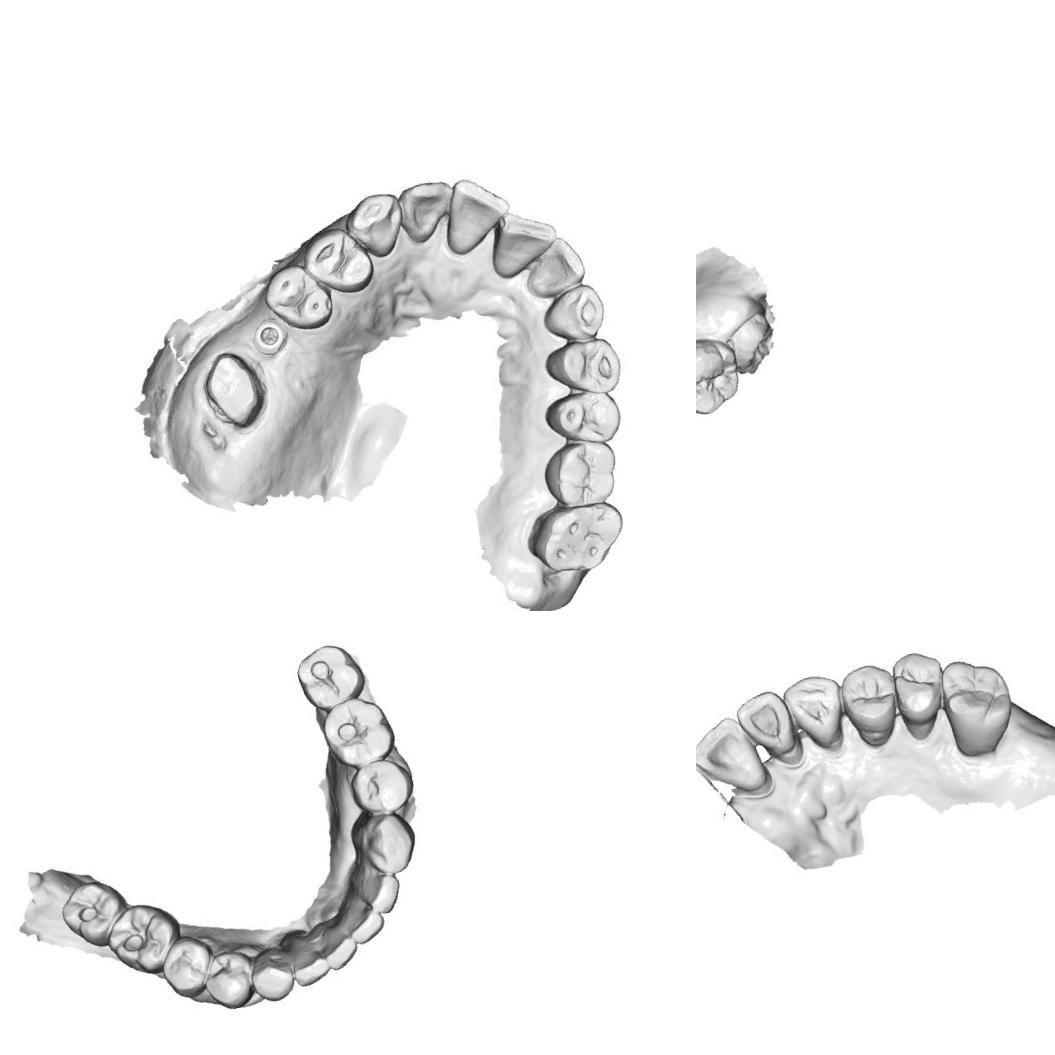canine: (780, 667, 852, 754), (346, 803, 426, 881), (537, 278, 612, 348), (341, 188, 409, 262), (248, 944, 299, 1006)
crown: (192, 344, 271, 440)
implant: (248, 314, 294, 362)
incisor: (432, 168, 516, 256), (730, 684, 804, 776), (478, 203, 565, 280), (696, 709, 767, 803), (394, 170, 462, 247), (518, 232, 590, 304), (316, 912, 363, 968), (360, 864, 410, 914), (289, 934, 334, 984), (342, 896, 387, 942)
molar: (518, 494, 633, 584), (934, 648, 1020, 752), (535, 431, 627, 516), (103, 894, 189, 982), (318, 691, 401, 773), (56, 871, 136, 952), (286, 638, 367, 715), (696, 330, 747, 419)
premolar: (258, 254, 342, 342), (296, 218, 378, 303), (538, 330, 627, 405), (882, 645, 954, 733), (540, 381, 626, 454), (834, 660, 906, 744), (344, 754, 418, 821), (155, 933, 220, 1006), (201, 944, 261, 1016)
